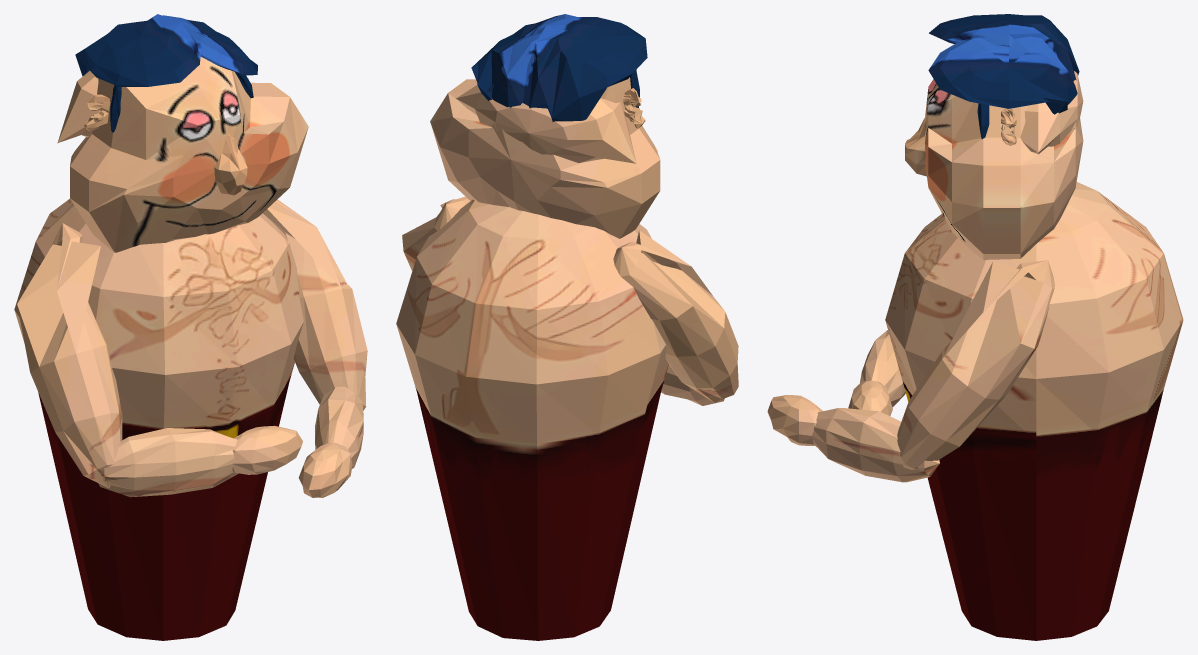
File: dll25.glb
3 views of the same model, side by side, from view 1: azimuth 30°, elevation 25°; view 2: azimuth 150°, elevation 25°; view 3: azimuth 270°, elevation 25° (orthographic). The views are drawn at different scales.
Visible parts, largest first — view 1: dll25; view 2: dll25; view 3: dll25.
Part boxes in pixels (left/top/right/bottom): dll25: left=14, top=14, right=367, bottom=640; dll25: left=396, top=14, right=738, bottom=640; dll25: left=767, top=14, right=1183, bottom=640.
Size of the model in its own units: 261 by 491 by 309.
1 material, 1 textured.
